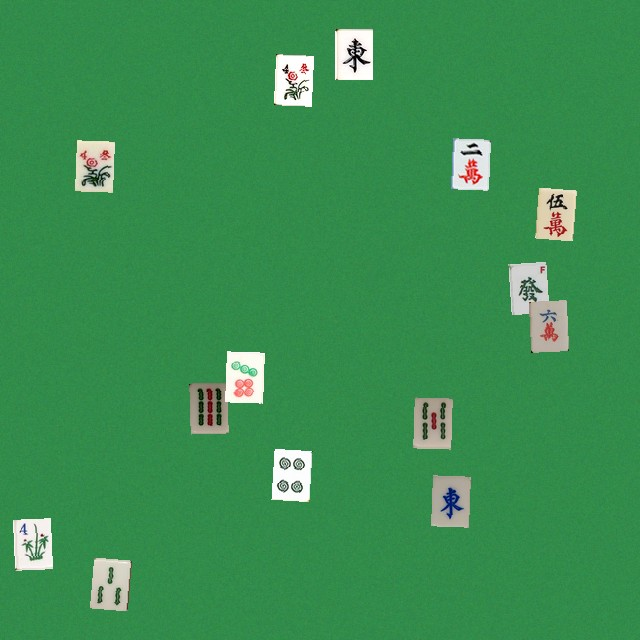tile: (413, 397, 451, 448), (189, 382, 227, 433), (89, 557, 127, 608), (508, 261, 546, 312), (271, 448, 309, 499), (75, 140, 113, 191), (431, 475, 469, 526), (535, 187, 573, 238), (225, 351, 263, 402), (450, 138, 488, 189), (12, 518, 50, 569), (528, 300, 566, 351), (273, 54, 311, 105), (334, 28, 372, 79)
